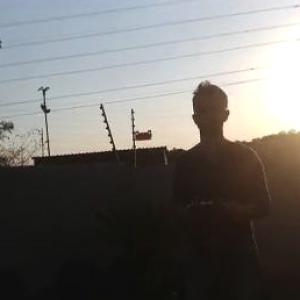follow: (170, 73, 279, 299)
